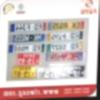License_Plate: (47, 21, 83, 30)
